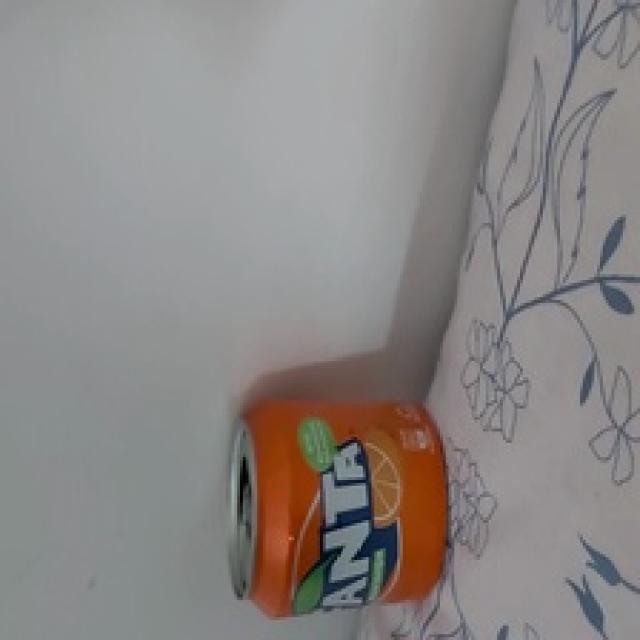recyclable: (226, 396, 446, 619)
